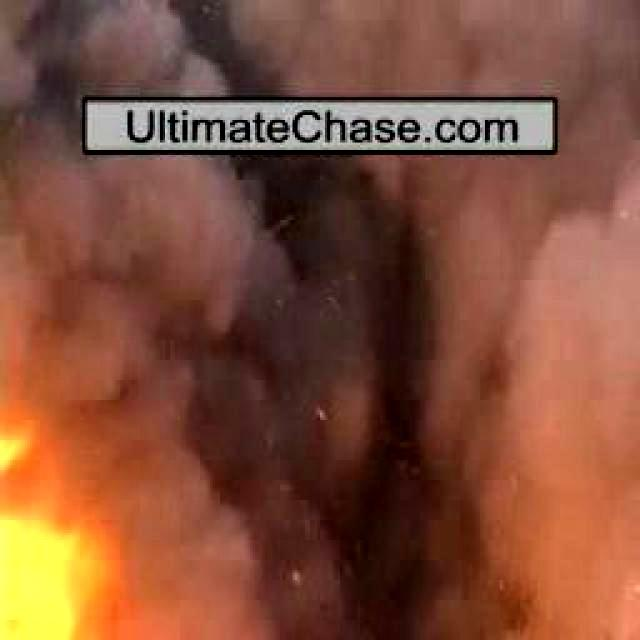fire: (0, 362, 132, 640)
